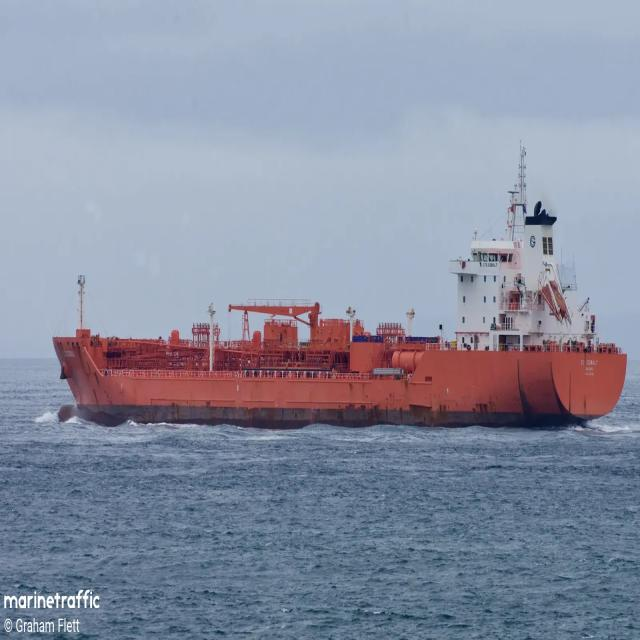Tanker: (54, 148, 626, 428)
